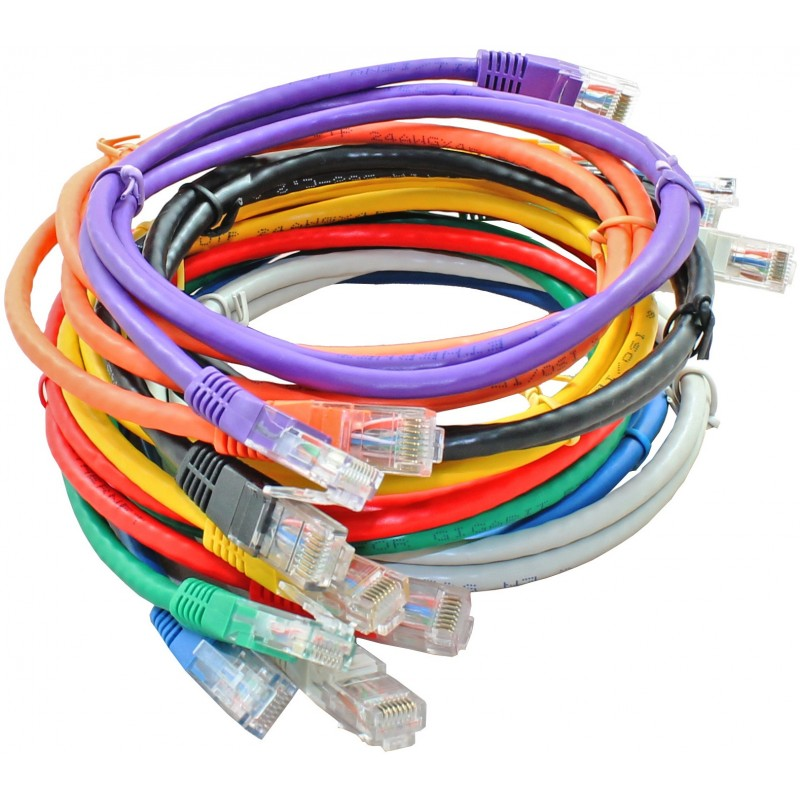Nonrec_Tangler: (18, 13, 755, 741)
